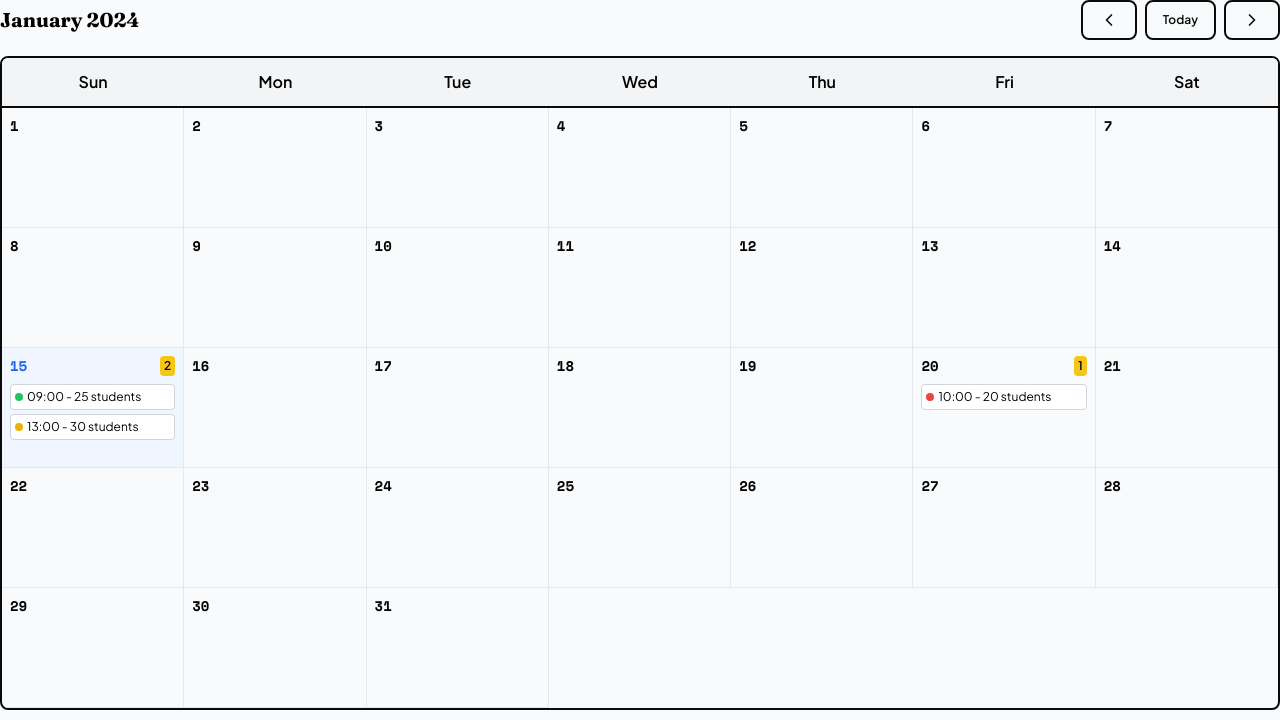
Test case: BookingCalendar › opens modal when clicking on date with bookings
Expected: the text "15" is shown, [10,355,27,376]
What coordinates should you click on to do the following:
click the text "15"
I would click on:
 (19, 366)
Its box is [10,356,175,376].
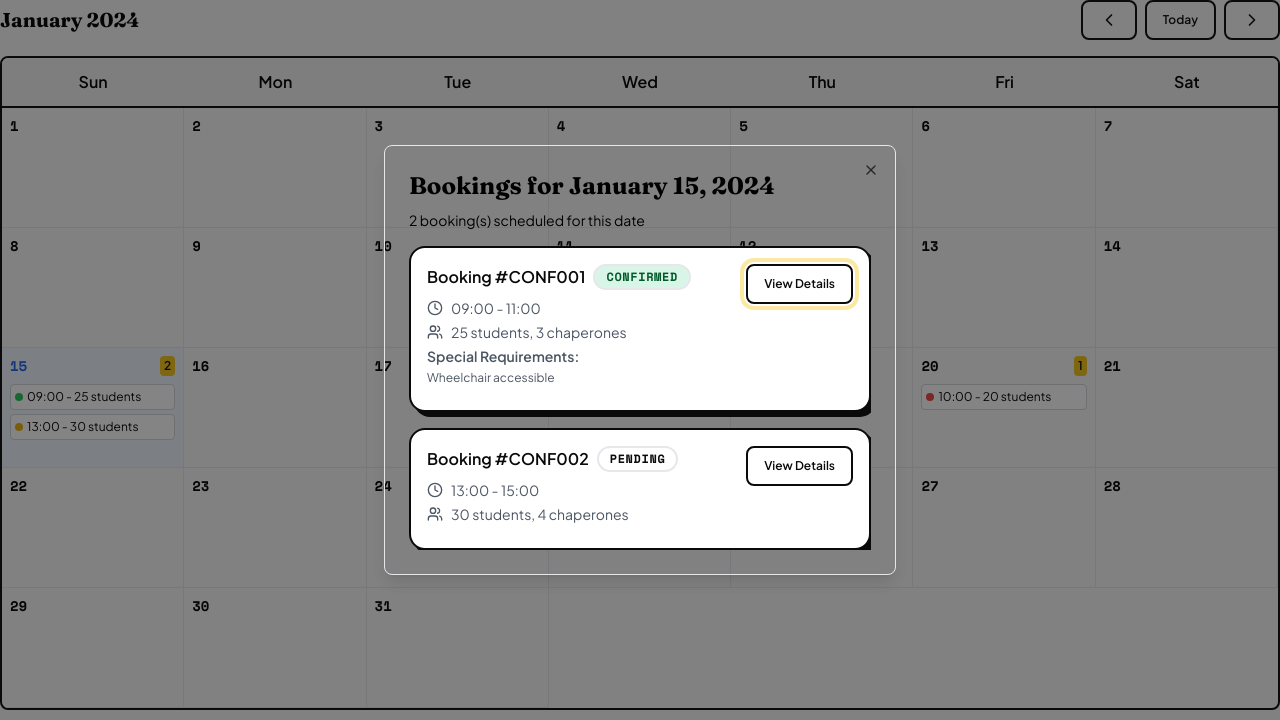
Expected: the heading "Bookings for January 15, 2024" is shown, [409,171,775,200]
